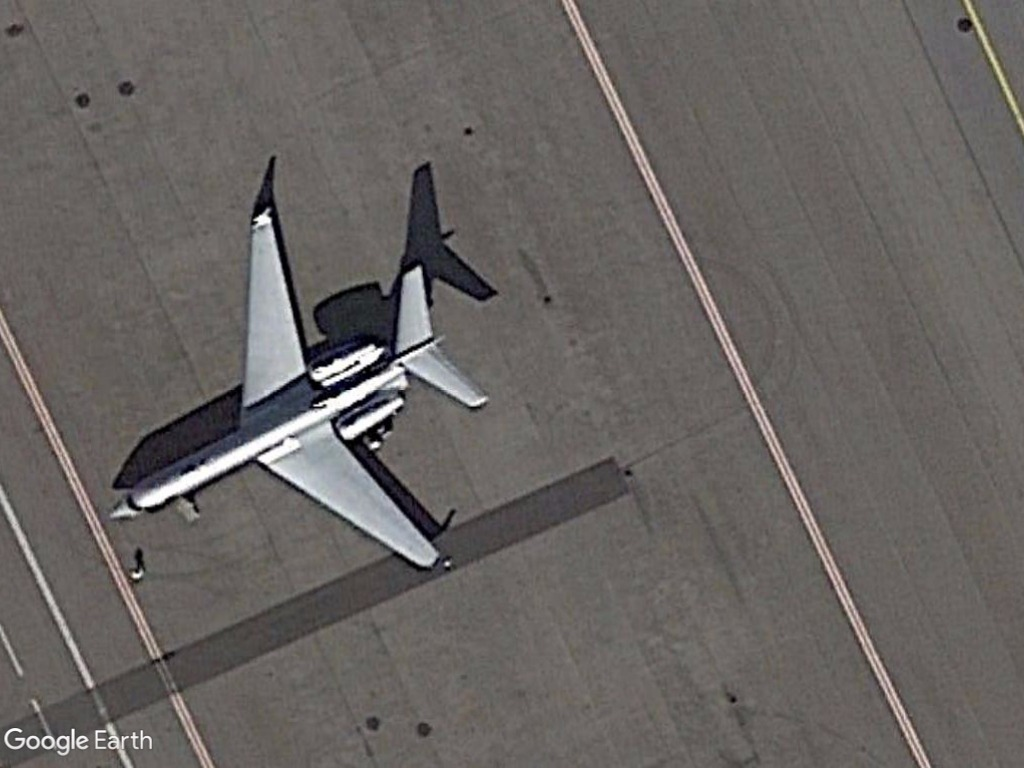chartered: (104, 205, 495, 581)
